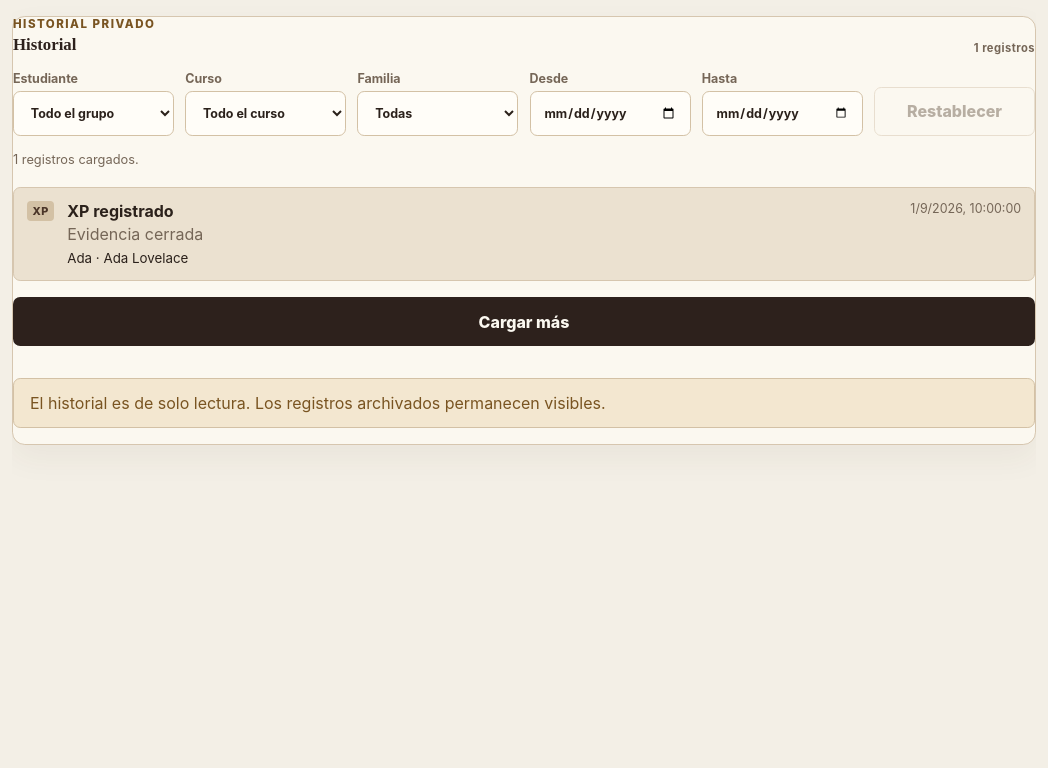
it: HistoryPanel › loads, preserves server order, and paginates without duplicate items
This screenshot has width=1048, height=768.
Click the button "Cargar más" at (524, 322), box [13,297,1035,346]
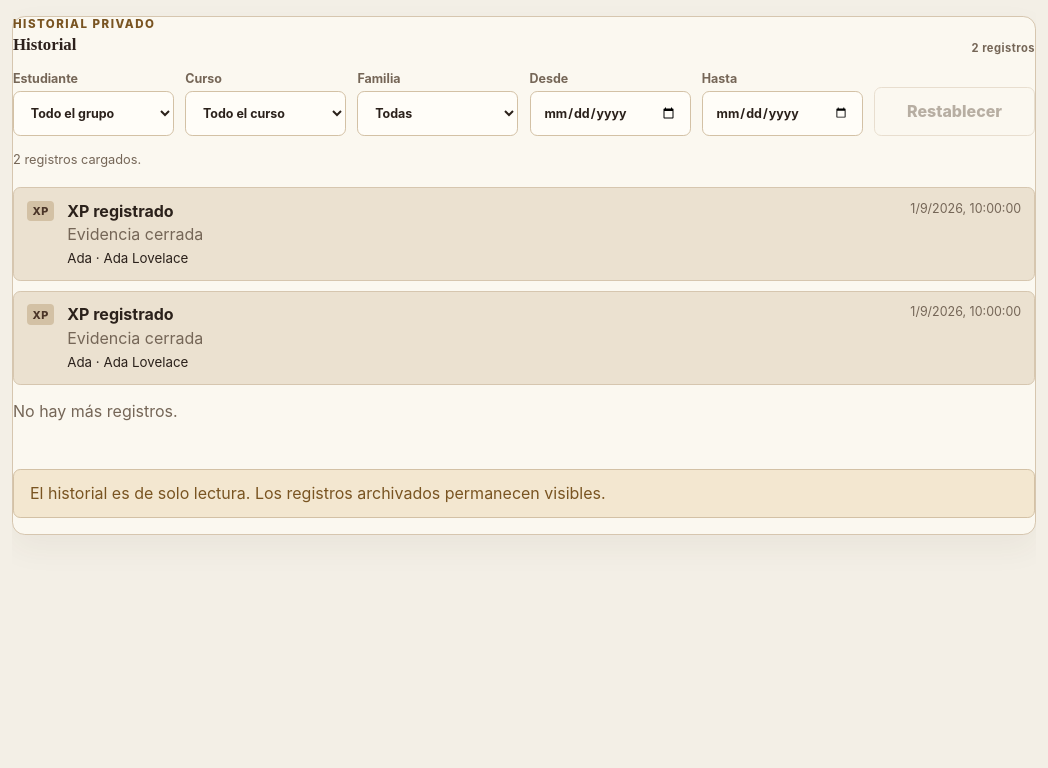
Result: the number of list items with class "history-item" is 2 at [13,187,1035,281]; [13,290,1035,384]
